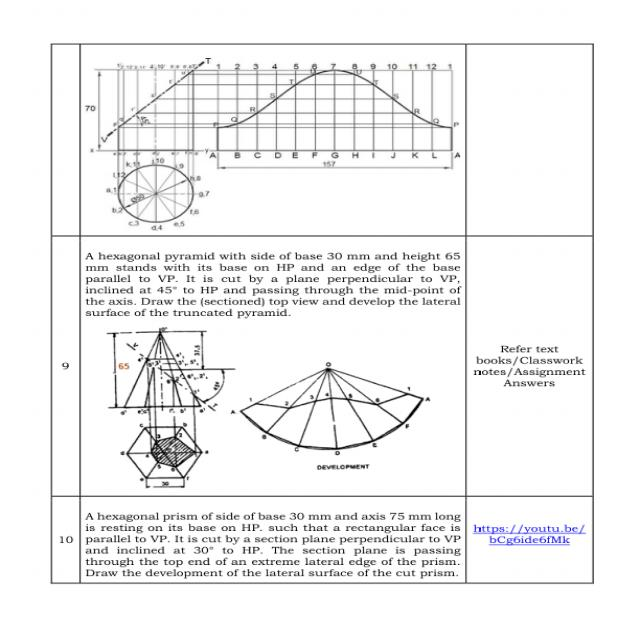Drawings: (83, 55, 462, 233), (102, 325, 231, 492), (235, 360, 436, 457)
